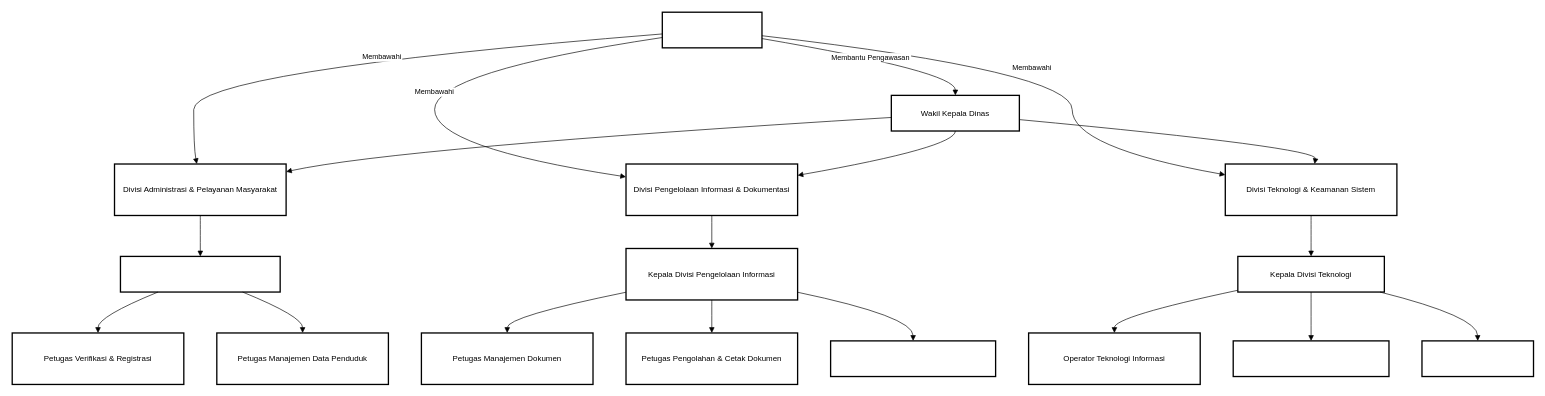
Some shapes in this 1545 by 396 pixel diagram are drawn without their labels. The centre of each missing label's shape, as x and y in pixels:
Desainer UI/UX: the point at 1477,358
Kepala Dinas: the point at 711,29
Kepala Divisi Administrasi: the point at 199,273
Operator Log & Aktivitas: the point at 1310,358
Petugas Manajemen Berita: the point at 913,358
